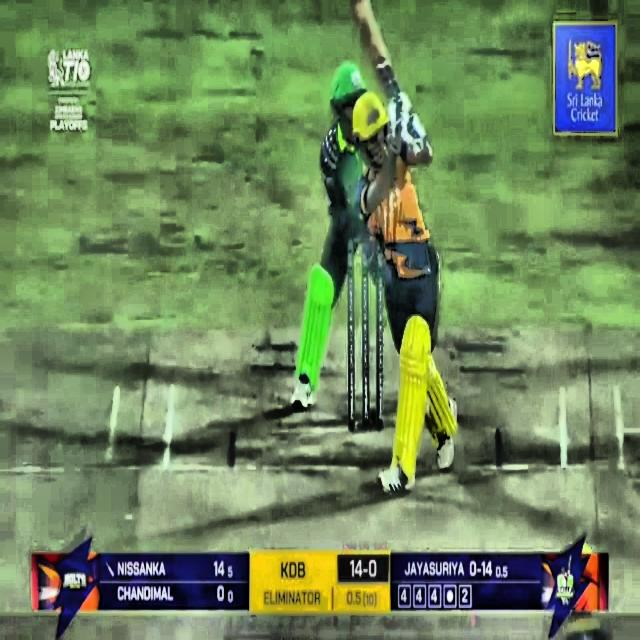Left-stump: (347, 242, 354, 430)
Middle-stump: (362, 259, 370, 428)
Right-stump: (376, 271, 382, 425)
stumps: (349, 239, 383, 432)
